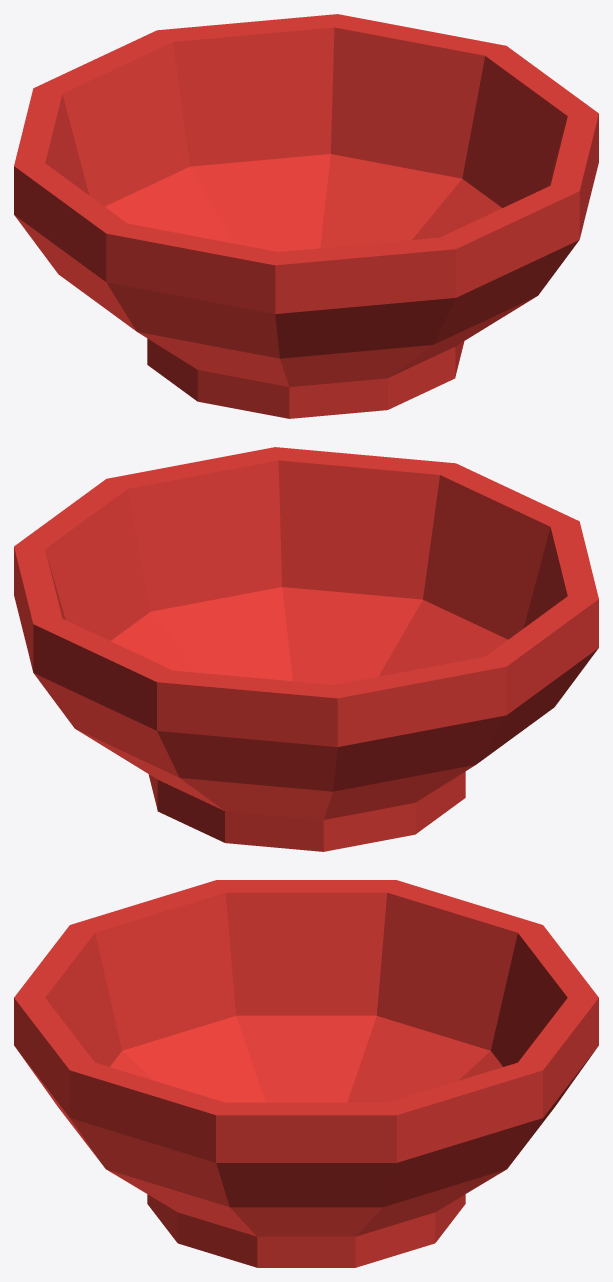
Rendered from SM_Bowl_Soup_Christmas.fbx.
3 views of the same model, one above another, from view 1: azimuth 30°, elevation 25°; view 2: azimuth 150°, elevation 25°; view 3: azimuth 270°, elevation 25° (orthographic). The views are drawn at different scales.
Parts seen in each view (by area): view 1: bowl-soup-christmas; view 2: bowl-soup-christmas; view 3: bowl-soup-christmas.
Boxes of the visible parts, <box> form: bowl-soup-christmas: <box>14,14,598,418</box>; bowl-soup-christmas: <box>14,447,598,851</box>; bowl-soup-christmas: <box>14,880,598,1267</box>.
Size of the model in its own units: 0.2003 by 0.0819 by 0.2106.
